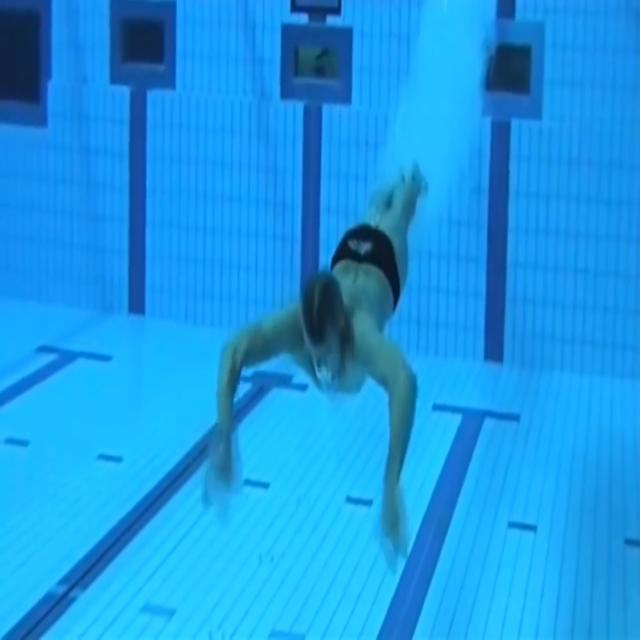Swimming: (203, 159, 430, 568)
